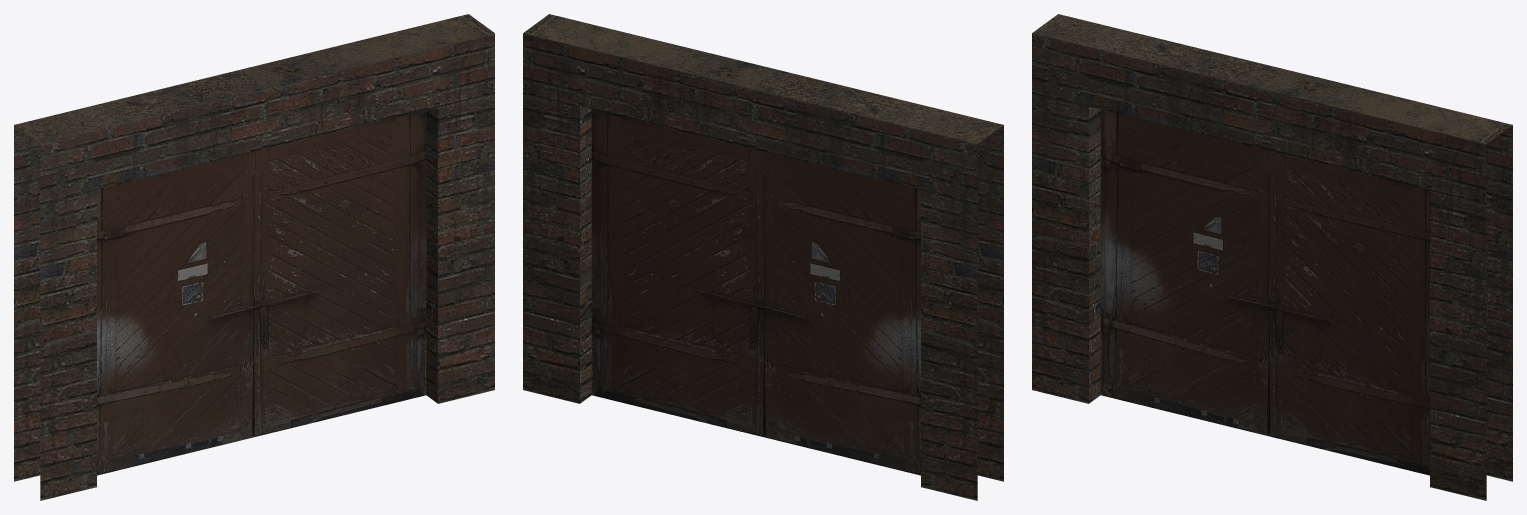
Rendered from garage_door_frame_hs_2.dae.
3 renders of one model, left to right at view 1: azimuth 30°, elevation 25°; view 2: azimuth 150°, elevation 25°; view 3: azimuth 330°, elevation 25°, orthographic.
Parts seen in each view (by area): view 1: garage_door_hm_7, garage_door_frame_hs_2; view 2: garage_door_hm_7, garage_door_frame_hs_2; view 3: garage_door_hm_7, garage_door_frame_hs_2.
Boxes of the visible parts, x1,y1,x2,y2 form: garage_door_hm_7: [97, 109, 426, 475]; garage_door_frame_hs_2: [14, 14, 494, 500]; garage_door_hm_7: [591, 109, 920, 475]; garage_door_frame_hs_2: [523, 14, 1003, 500]; garage_door_hm_7: [1100, 109, 1429, 475]; garage_door_frame_hs_2: [1032, 14, 1512, 500].
Size of the model in its own units: 4 by 0.4 by 3.
Materials: 3 (3 with a texture image).
